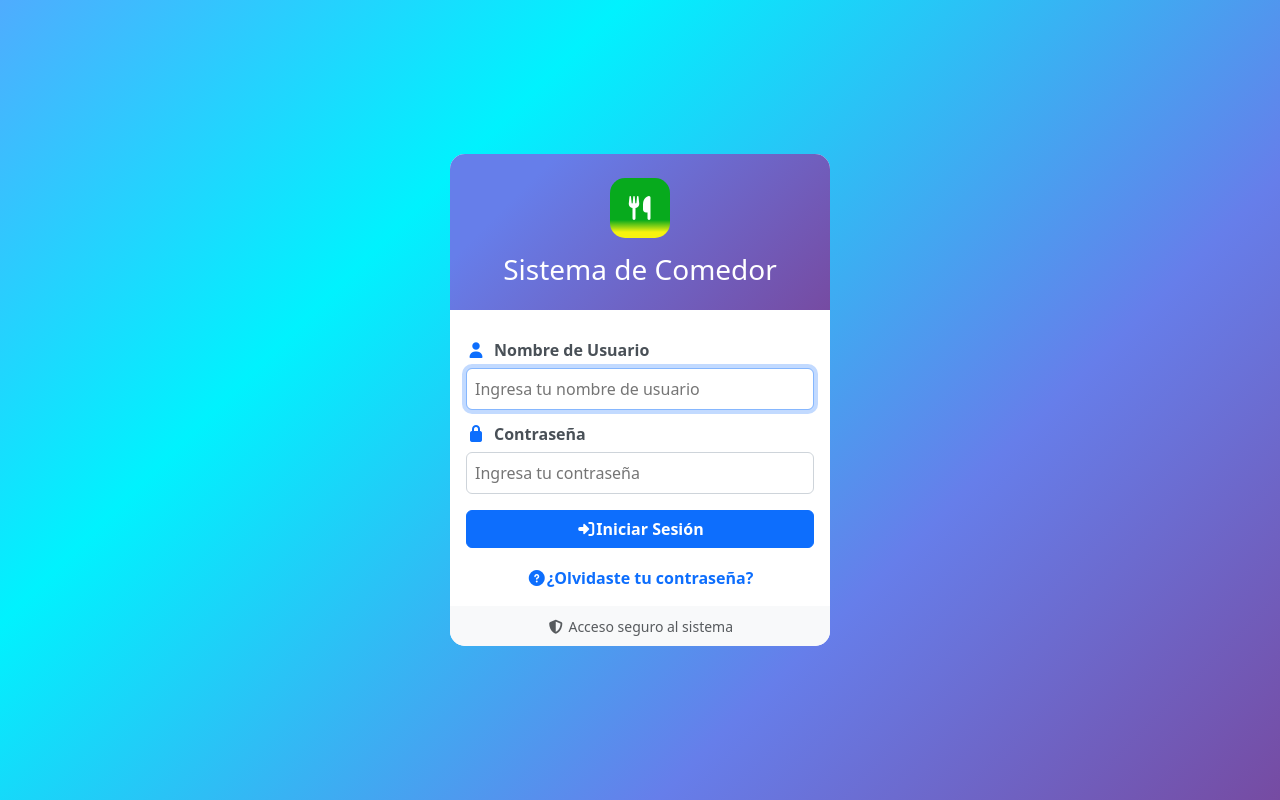
Test: Login Page › Prueba 6.3: Debería mostrar error cuando el nombre de usuario está vacío
Click the button "Iniciar Sesión" at (640, 529), box [466,510,814,548]
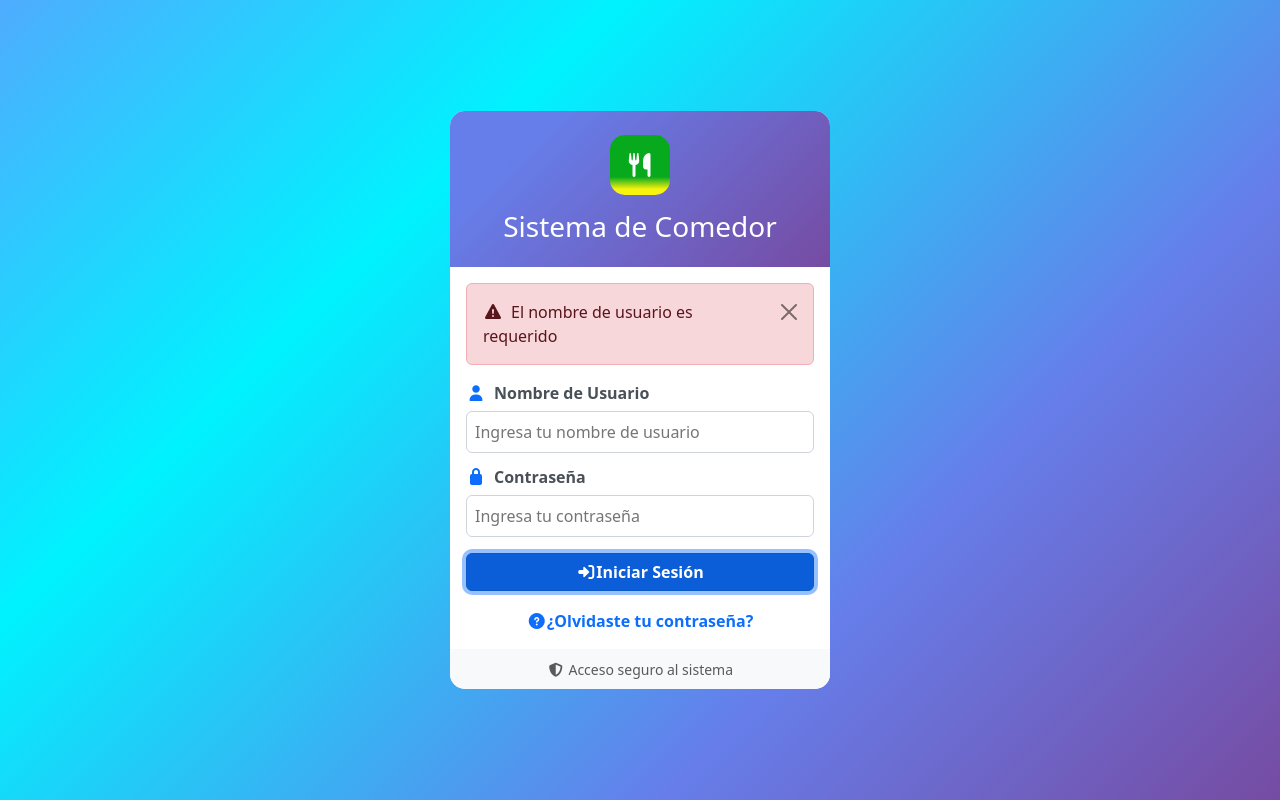
Expected: the text "El nombre de usuario es requerido" is shown, [466,283,814,365]
